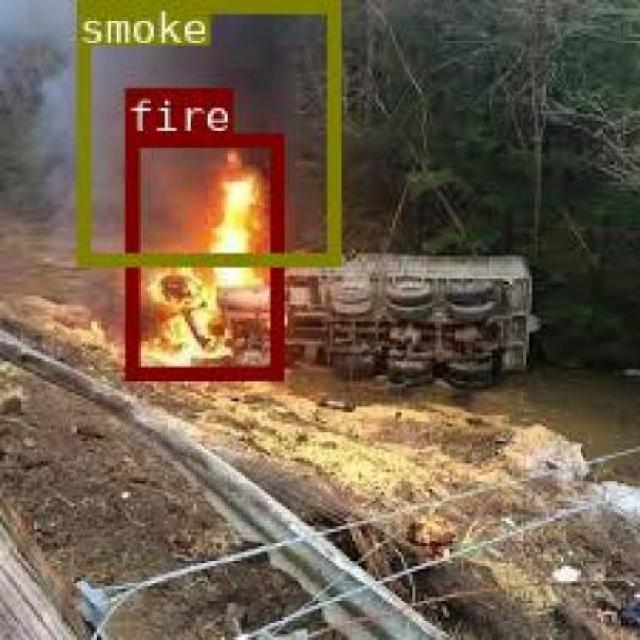Fire: (123, 132, 280, 378)
Smoke: (75, 0, 337, 262)
